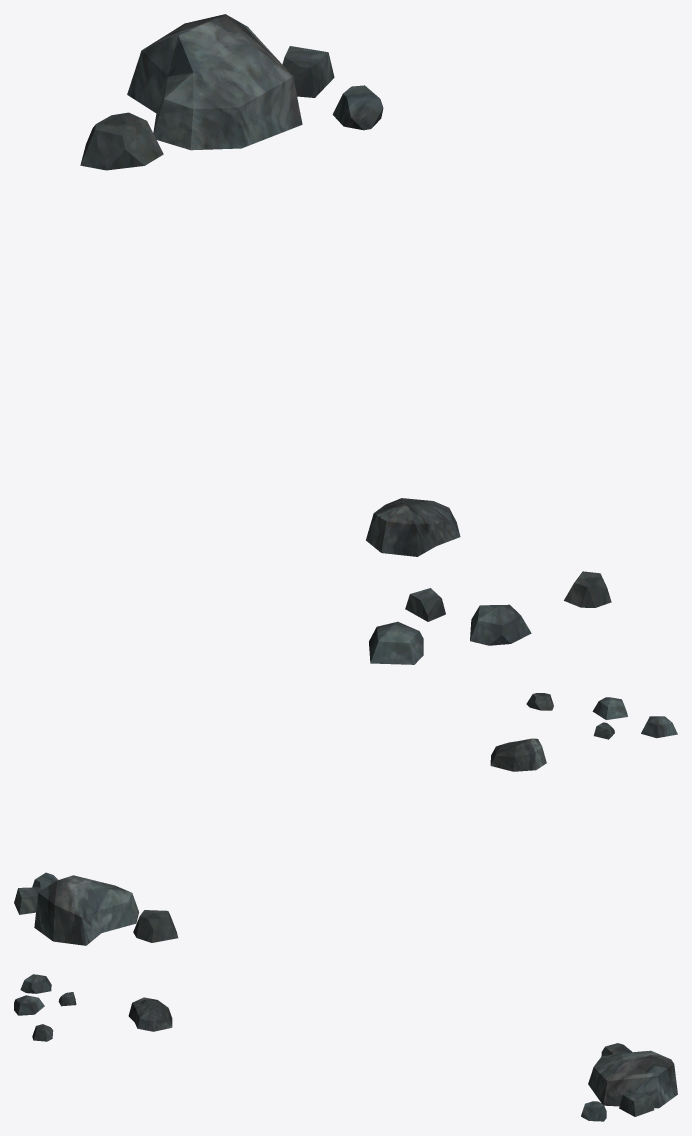
File: object_rubble02.fbx
The picture shows the model from 3 angles, top to bottom: view 1: azimuth 30°, elevation 25°; view 2: azimuth 150°, elevation 25°; view 3: azimuth 270°, elevation 25°; orthographic projection. The views are drawn at different scales.
Visible parts, largest first — view 1: obj0.079; view 2: obj0.079; view 3: obj0.079.
Boxes of the visible parts, bbox=[...] form: obj0.079: bbox=[80, 14, 611, 664]; obj0.079: bbox=[14, 693, 677, 945]; obj0.079: bbox=[14, 974, 677, 1121].
Size of the model in its own units: 4.78 by 0.6873 by 9.63.
